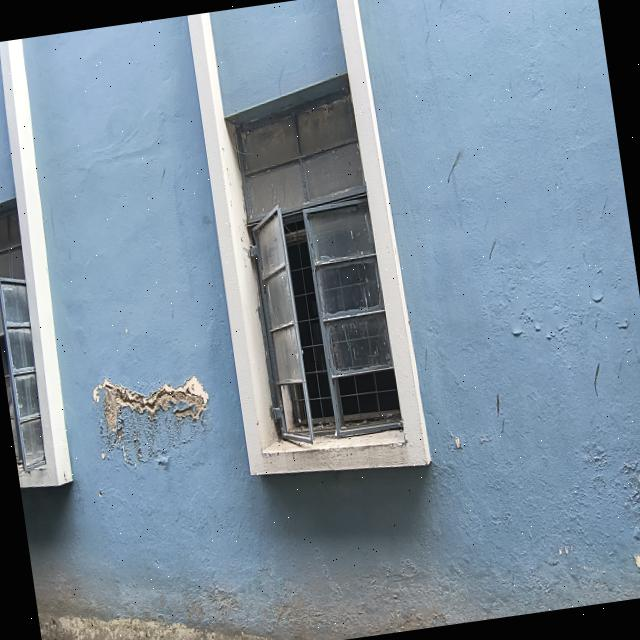peeling: (566, 437, 640, 599), (93, 376, 209, 466)
